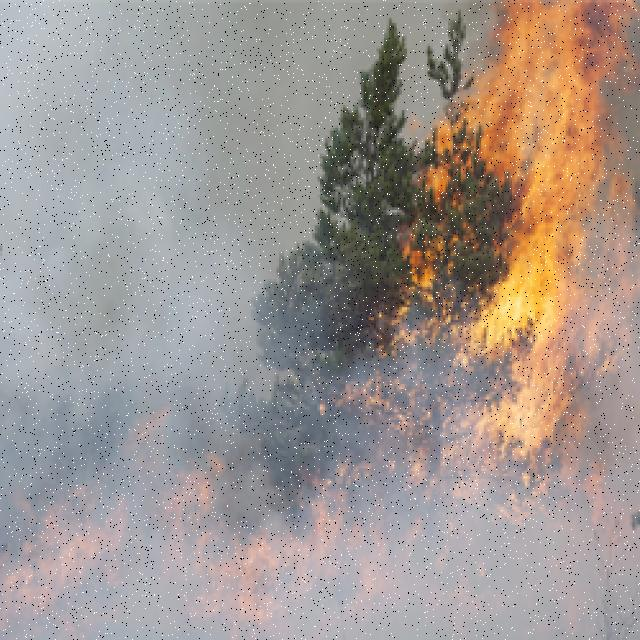fire: (445, 35, 589, 504)
smoke: (9, 9, 394, 640)
